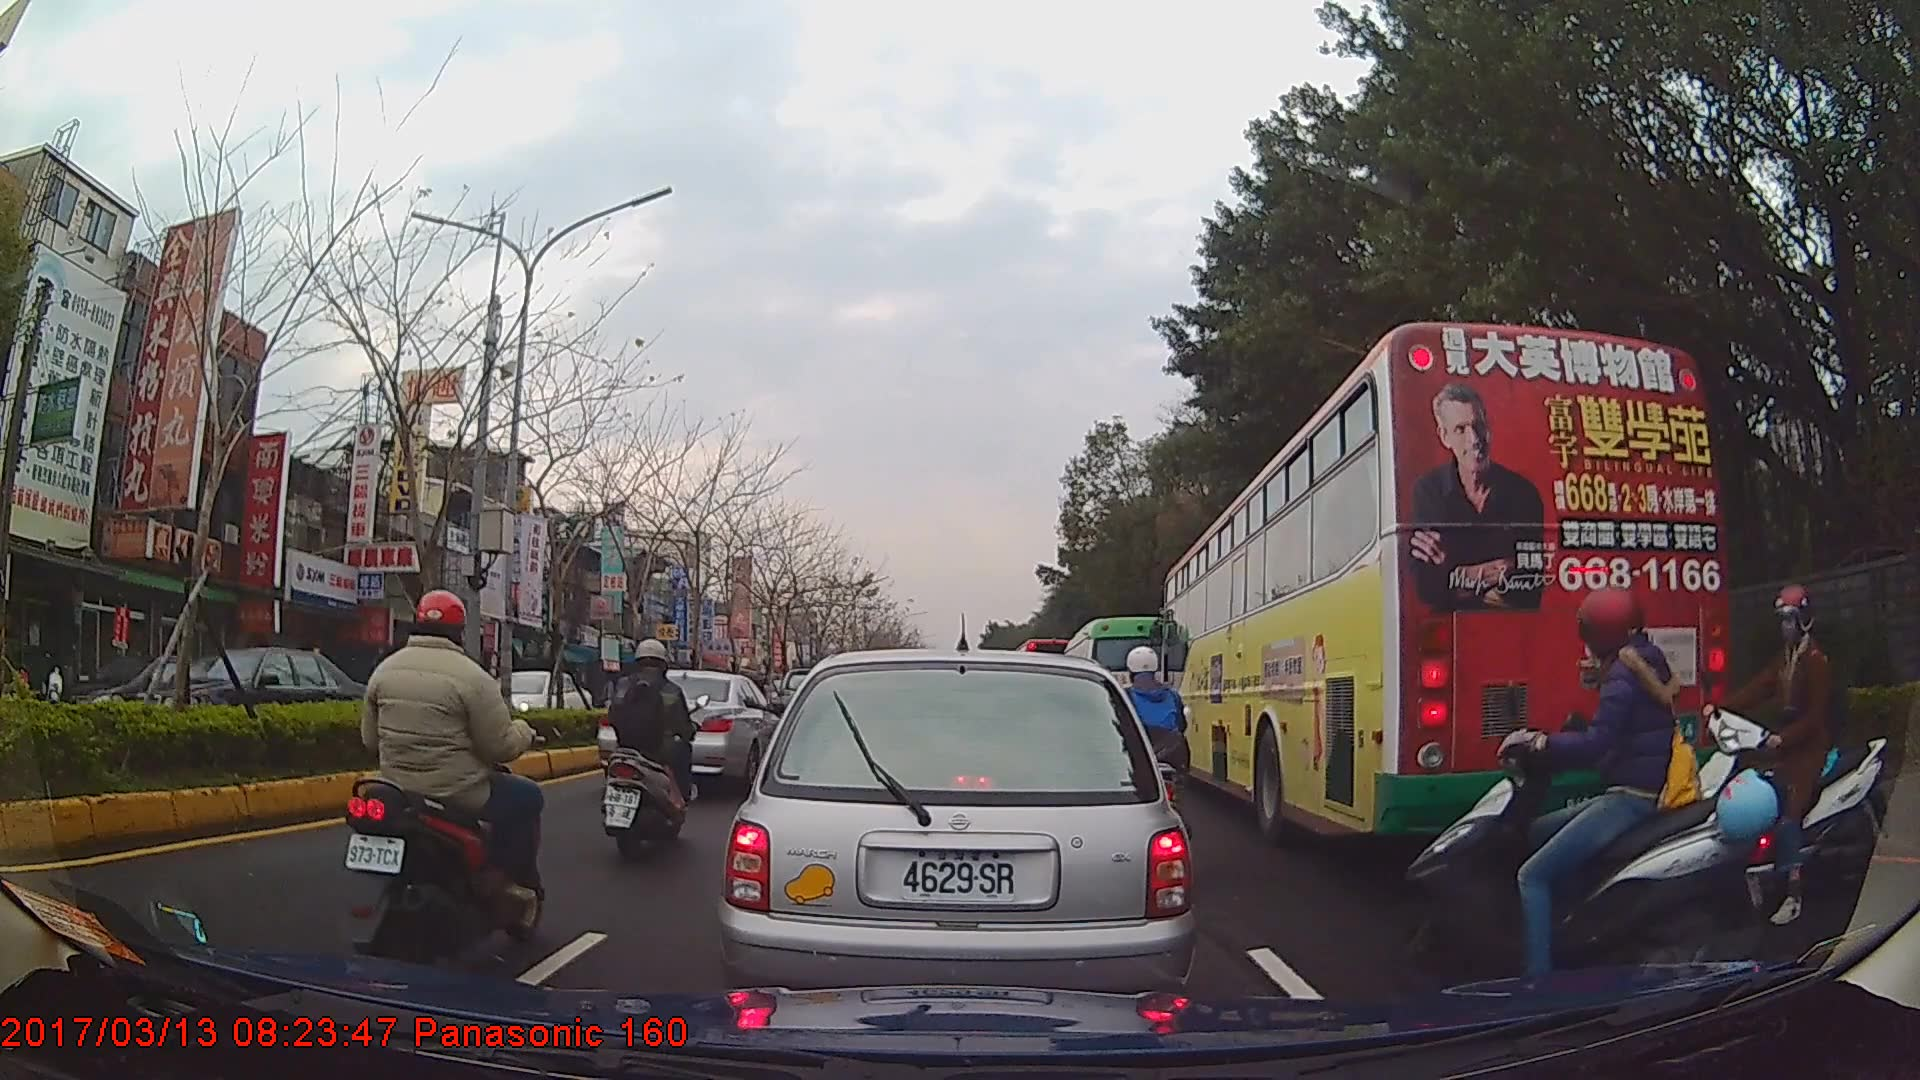rider: (1400, 588, 1784, 1008), (340, 590, 544, 978), (1678, 581, 1883, 924), (603, 636, 699, 859), (1117, 643, 1190, 830)
vehicle: (1160, 319, 1727, 848), (720, 648, 1190, 1024), (90, 641, 373, 753), (52, 650, 333, 737), (597, 668, 778, 793), (1058, 616, 1187, 765), (453, 662, 590, 734)
